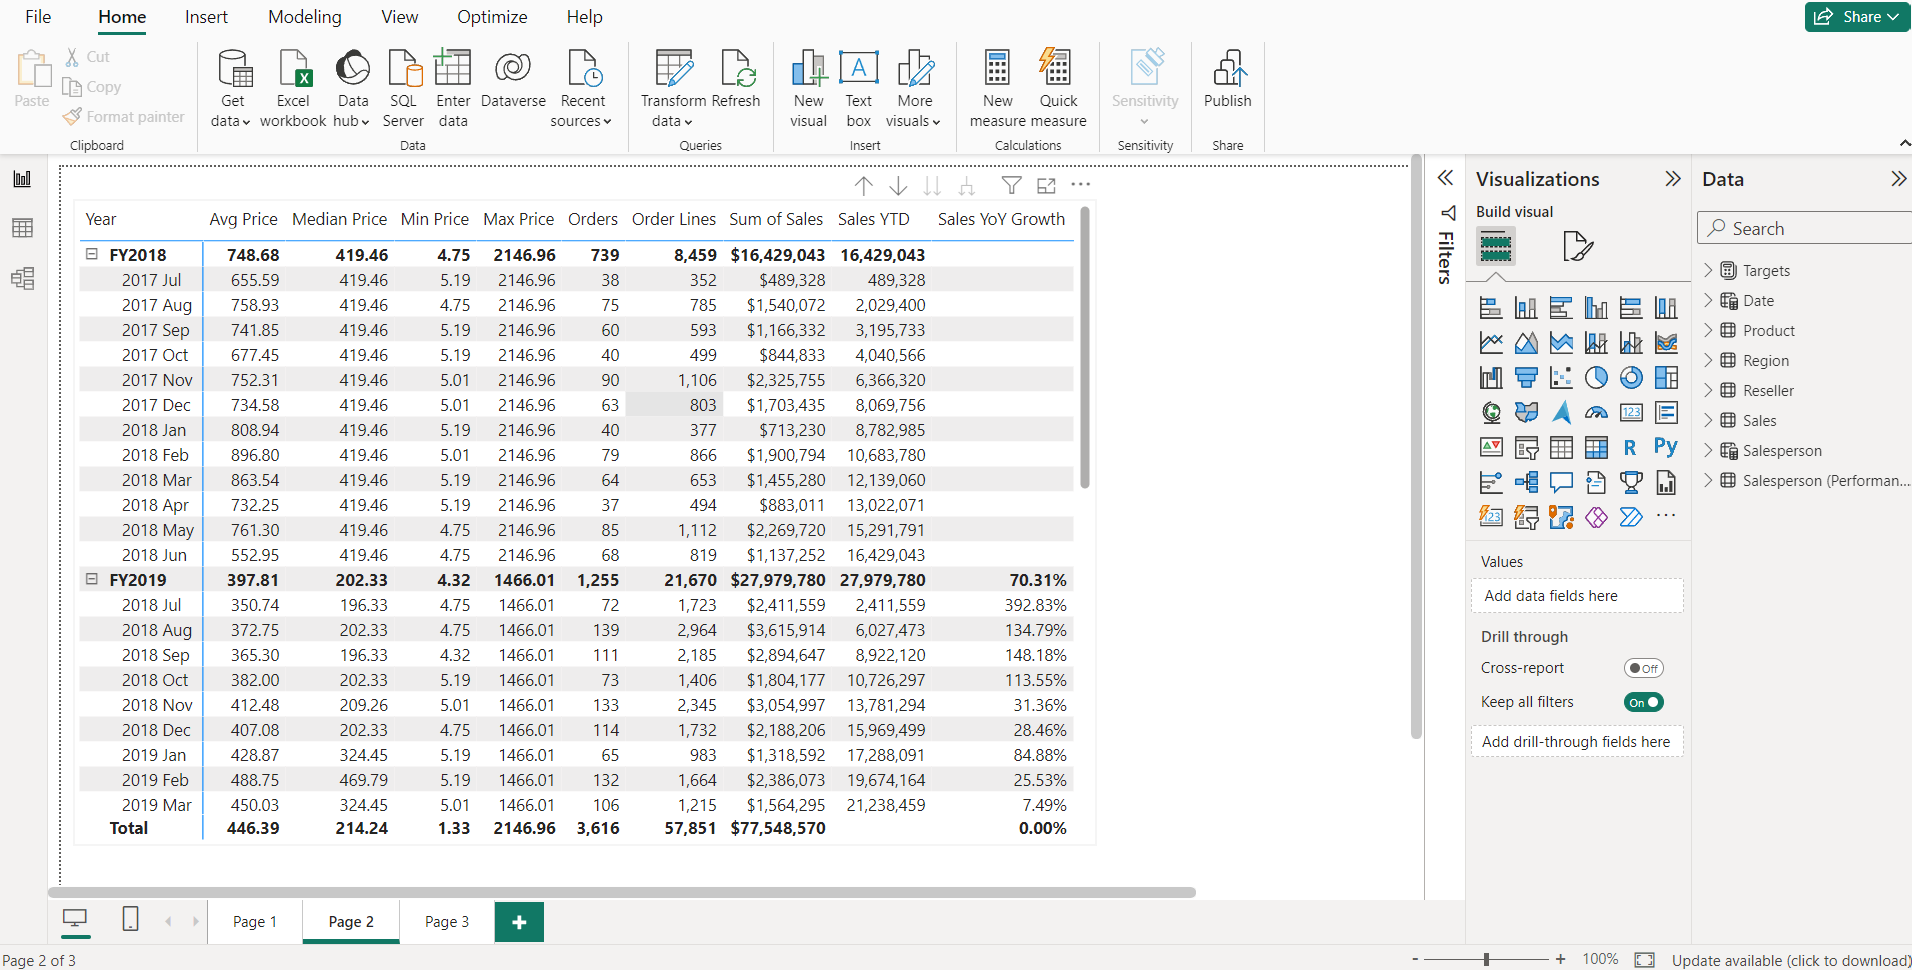

What the dashboard file says about the page in this screenshot:
{"tool":"powerbi","page":{"name":"Page 2","canvas":[1280,720],"ordinal":1},"visuals":[{"type":"pivotTable","fields":{"Rows":["Date.Year","Date.Month"],"Values":["Sales.Avg Price","Sales.Median Price","Sales.Min Price","Sales.Max Price","Sales.Orders","Sales.Order Lines","Sum(Sales.Sales)","Sales.Sales YTD","Sales.Sales YoY Growth"]},"box":[10,26,819,517],"z":0}]}

Visuals, with their boxes on the page's 1280x720 design canvas (x1, y1, x2, y2). These are canvas units, not pixel positions in the 1912x970 screenshot, which may show the page scaled, cropped or inside an application window:
pivotTable - Date.Year x Date.Month: select_region(10, 26, 829, 543)
